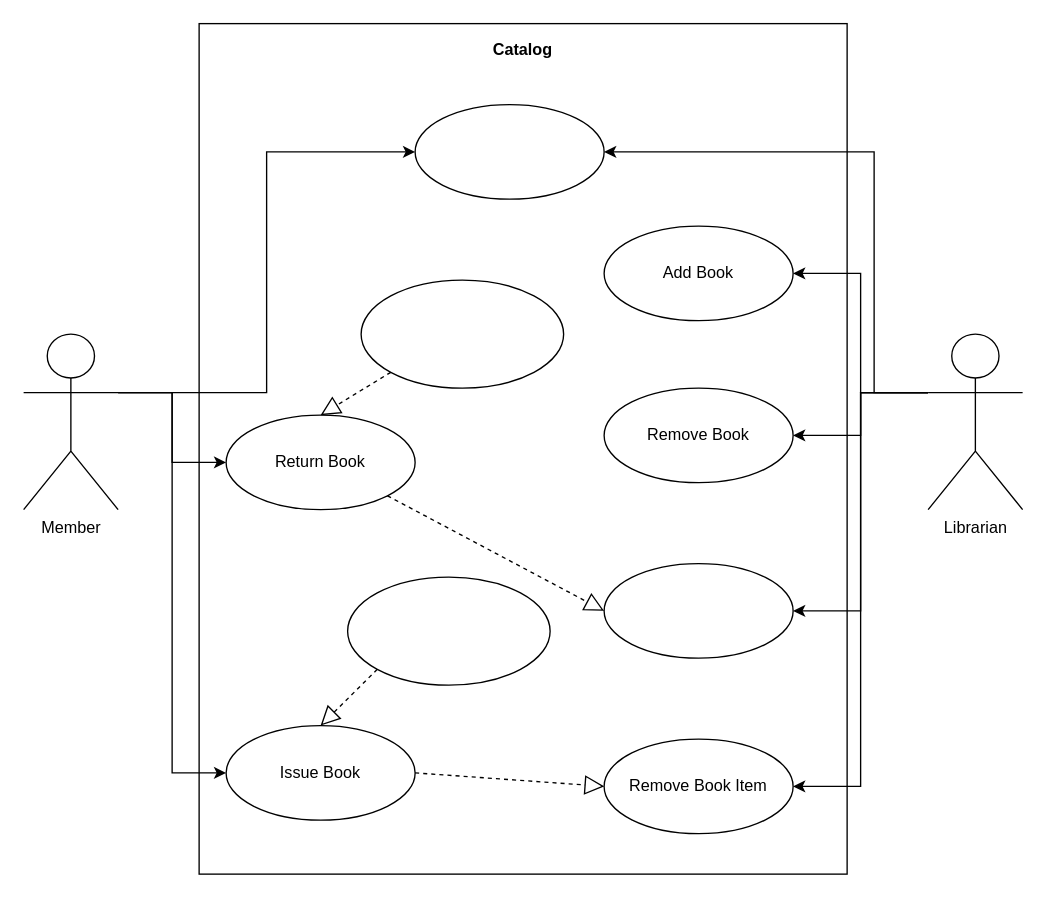
Image size: 1046x898. Some labels were removed from this diagram. The shapes that lost their labels are listed below. From the top down, each one's box as (x1, y1, x2, y2) in pixels, then its label:
(414, 103, 604, 199): Display or Search Books
(360, 279, 564, 388): Displays any errors while returning book
(603, 562, 793, 658): Add Book Item
(346, 576, 550, 685): Displays any errors while issuing book
